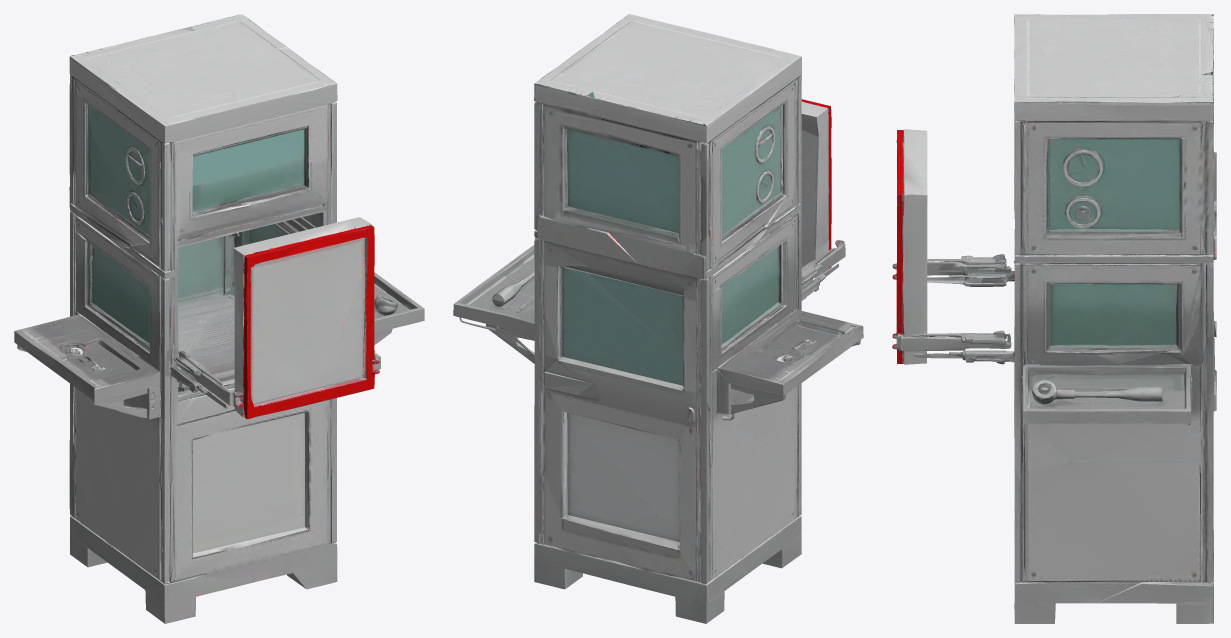
Rendered from maintain.glb.
The picture shows the model from 3 angles, left to right: view 1: azimuth 30°, elevation 25°; view 2: azimuth 150°, elevation 25°; view 3: azimuth 270°, elevation 25°; orthographic projection. The views are drawn at different scales.
Size of the model in its own units: 1.32 by 1.9 by 1.07.
1 material, 1 textured.
